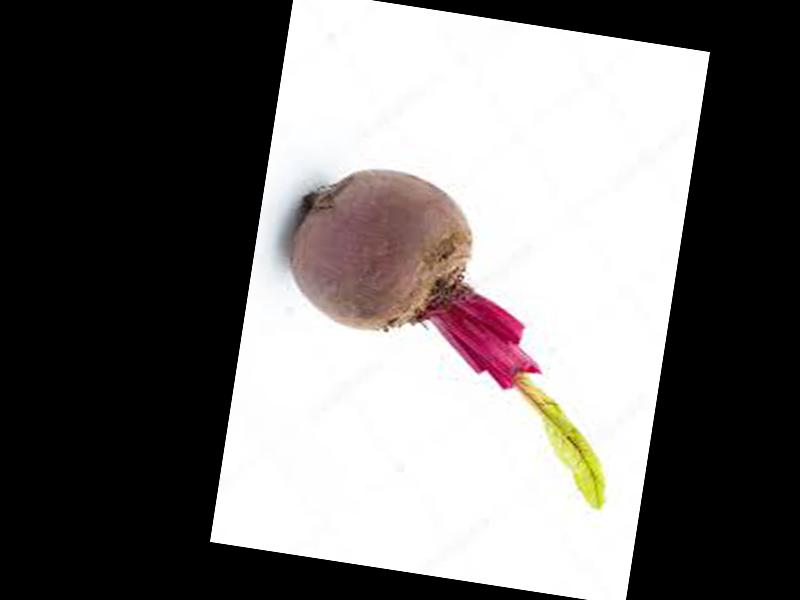Beet: (260, 156, 648, 507)
